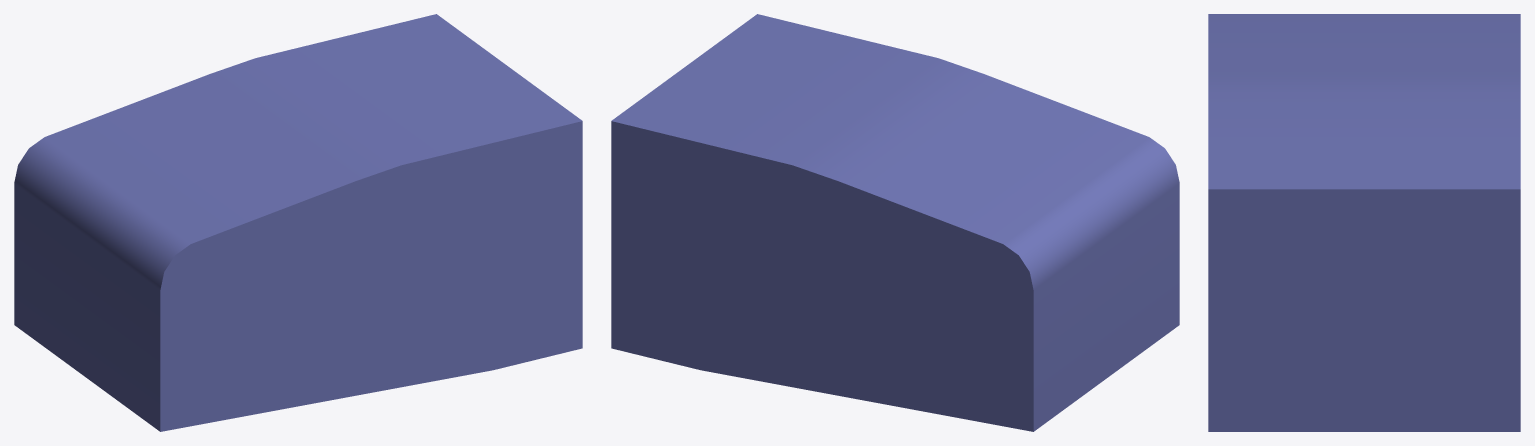
The model's file is sm_jumpStart_02.fbx.
3 renders of one model, left to right at view 1: azimuth 30°, elevation 25°; view 2: azimuth 150°, elevation 25°; view 3: azimuth 270°, elevation 25°, orthographic. The views are drawn at different scales.
Visible parts, largest first — view 1: sm_jumpStart_02; view 2: sm_jumpStart_02; view 3: sm_jumpStart_02.
Boxes of the visible parts, <box> form: sm_jumpStart_02: <box>14,14,582,431</box>; sm_jumpStart_02: <box>611,14,1179,431</box>; sm_jumpStart_02: <box>1208,14,1520,431</box>.
Bounding box in the file's own units: 966 × 497 × 579.
